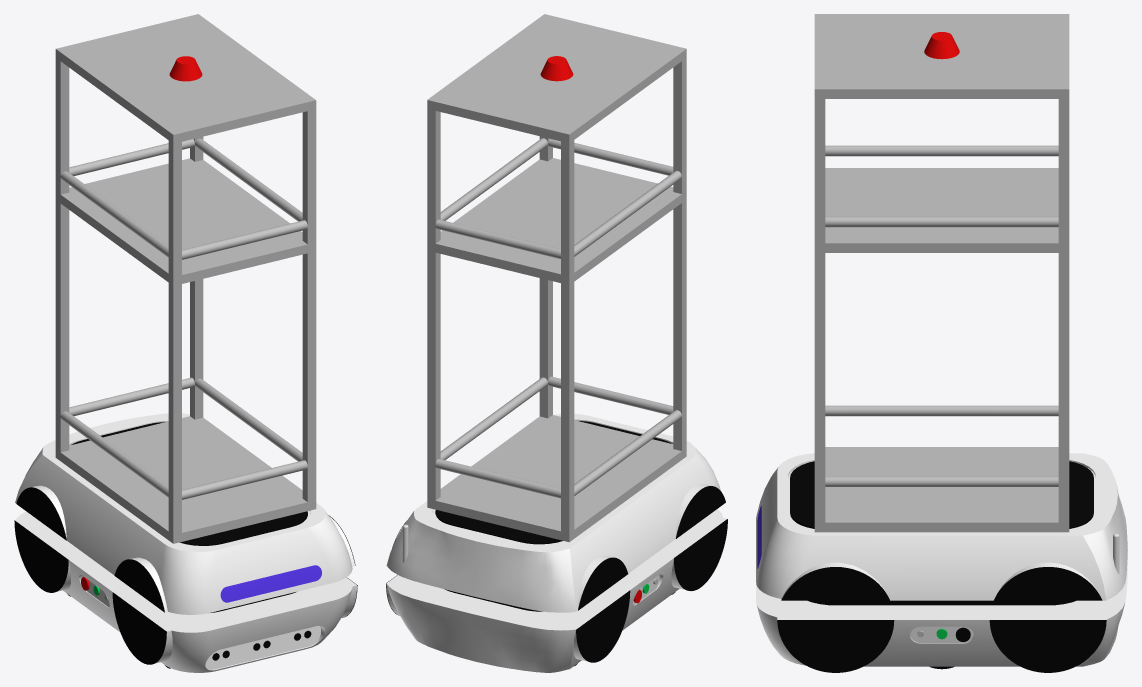
Rendered from robot_delivery.glb.
3 views of the same model, side by side, from view 1: azimuth 30°, elevation 25°; view 2: azimuth 150°, elevation 25°; view 3: azimuth 270°, elevation 25° (orthographic). The views are drawn at different scales.
Visible parts, largest first — view 1: Component2:1, v3.2 top:1, v3.2 Base:1, Hubcaps right:1 (×4), Front plate:1, Lights:1, Top plate:1, Component1:1; view 2: Component2:1, v3.2 top:1, v3.2 Base:1, Hubcaps right:1 (×4), Top plate:1, Component1:1; view 3: Component2:1, v3.2 top:1, Hubcaps right:1 (×4), v3.2 Base:1, Top plate:1, v3.2 mid:1, Button base:1, Component1:1.
Boxes of the visible parts, x1,y1,x2,y2 form: Component2:1: [55, 14, 316, 543]; v3.2 top:1: [15, 413, 355, 614]; v3.2 Base:1: [15, 511, 356, 672]; Hubcaps right:1 (×4): [14, 487, 166, 664]; Front plate:1: [205, 626, 320, 669]; Lights:1: [220, 565, 321, 602]; Top plate:1: [71, 422, 307, 545]; Component1:1: [169, 56, 202, 81]; Component2:1: [427, 14, 686, 542]; v3.2 top:1: [386, 413, 720, 612]; v3.2 Base:1: [386, 509, 727, 672]; Hubcaps right:1 (×4): [576, 486, 727, 662]; Top plate:1: [435, 421, 671, 544]; Component1:1: [540, 56, 573, 81]; Component2:1: [814, 14, 1069, 532]; v3.2 top:1: [756, 453, 1127, 600]; Hubcaps right:1 (×4): [777, 567, 1106, 672]; v3.2 Base:1: [756, 560, 1127, 666]; Top plate:1: [790, 461, 1093, 528]; v3.2 mid:1: [808, 600, 1075, 605]; Button base:1: [910, 626, 973, 643]; Component1:1: [924, 32, 959, 59].
Size of the model in its own units: 22.13 by 61.42 by 34.45.
